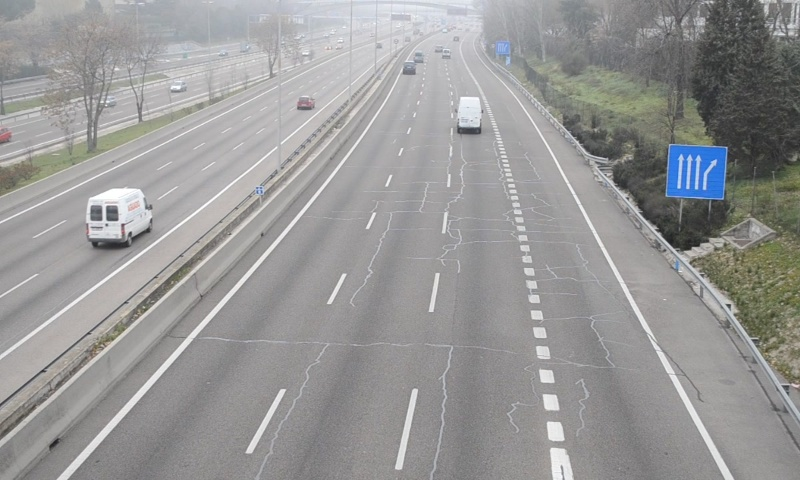van: (457, 96, 483, 132)
